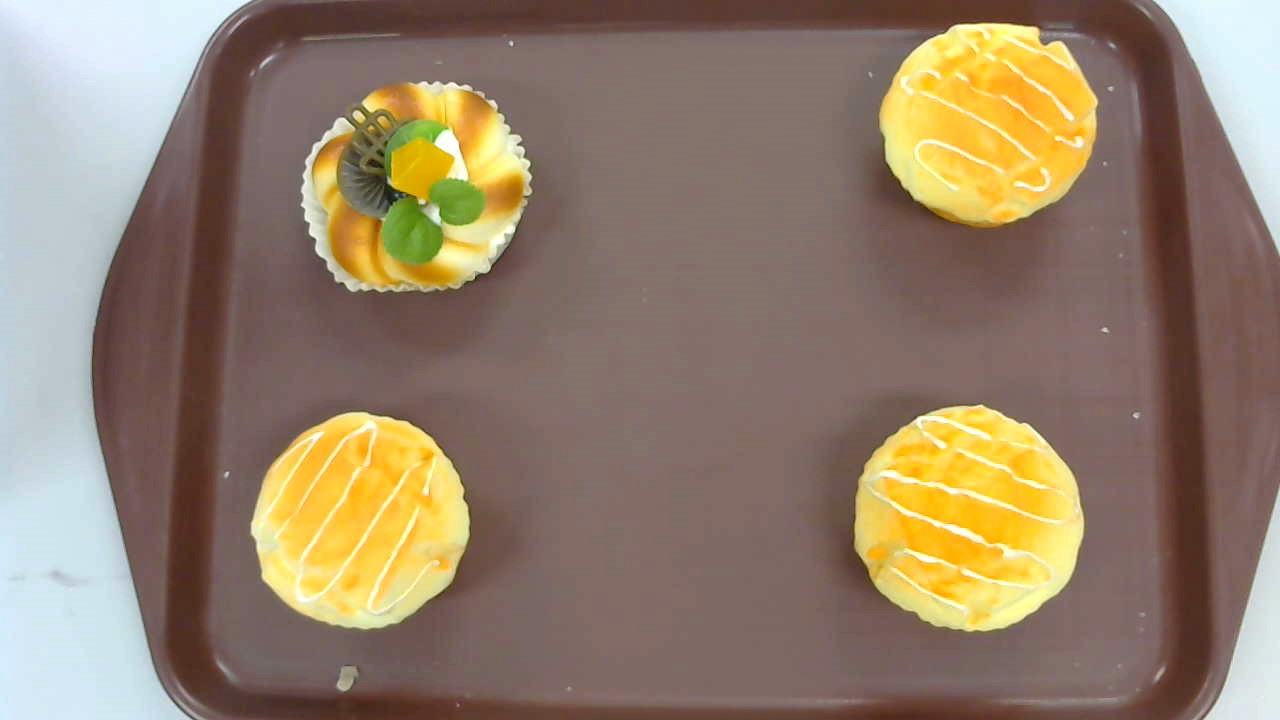cupcake: (852, 403, 1085, 634), (248, 410, 471, 631), (877, 22, 1098, 231)
fruit tart: (301, 80, 534, 295)
